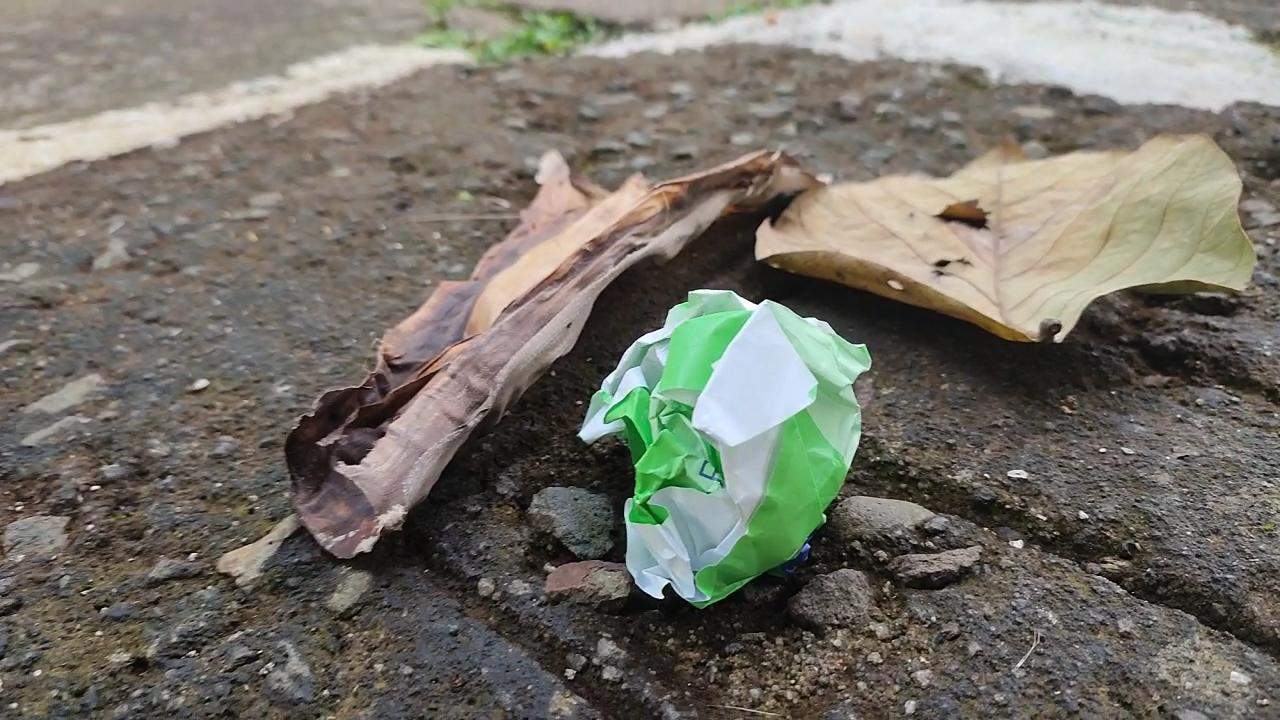Paper: (568, 276, 883, 614)
